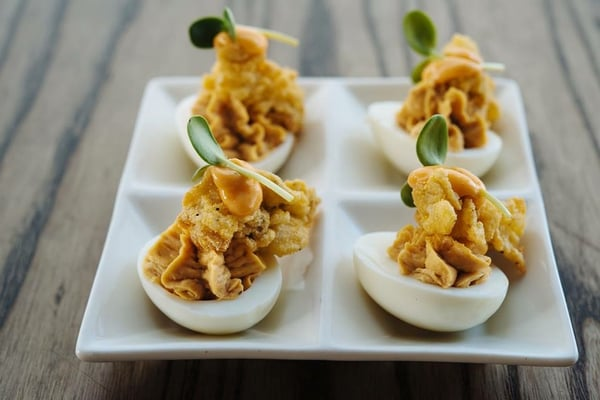salad: (187, 114, 297, 203)
sushi: (137, 161, 319, 334), (351, 161, 527, 332), (352, 210, 518, 331)
